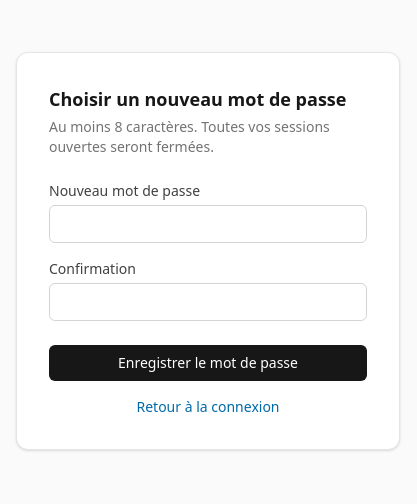
Test case: <ResetPasswordPage /> › valide la saisie sans appel réseau
In the password field labelled "Nouveau mot de passe": (208, 224) x1=49 y1=205 x2=367 y2=243, type "new-password"
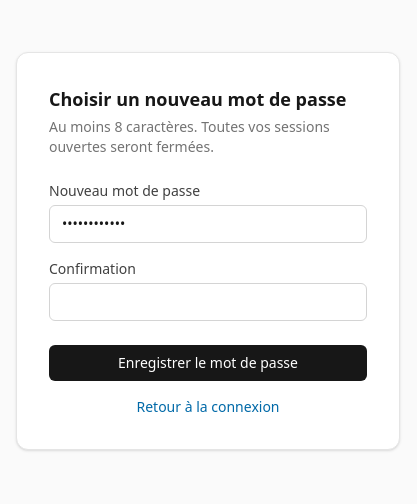
In the password field labelled "Confirmation": (208, 302) x1=49 y1=283 x2=367 y2=321, type "autre-chose"
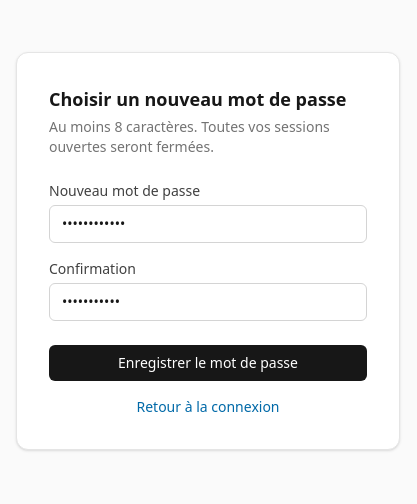
Click the button "Enregistrer le mot de passe": (208, 363) x1=49 y1=345 x2=367 y2=381
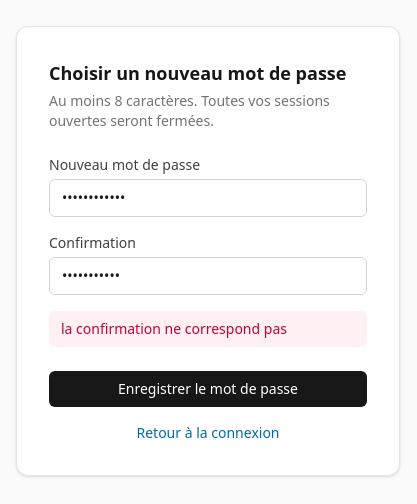
Expected: the message shows "confirmation", x1=61 y1=319 x2=287 y2=338
In the password field labelled "Nouveau mot de passe": (208, 198) x1=49 y1=179 x2=367 y2=217, type "short"
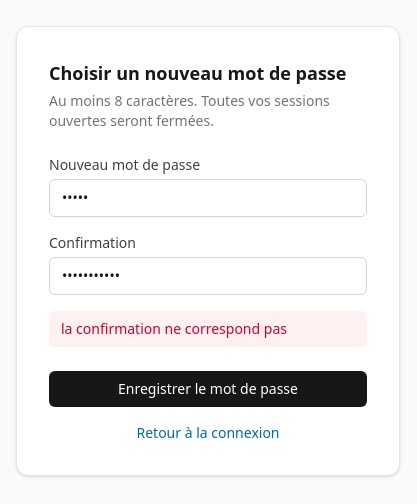
In the password field labelled "Confirmation": (208, 276) x1=49 y1=257 x2=367 y2=295, type "short"
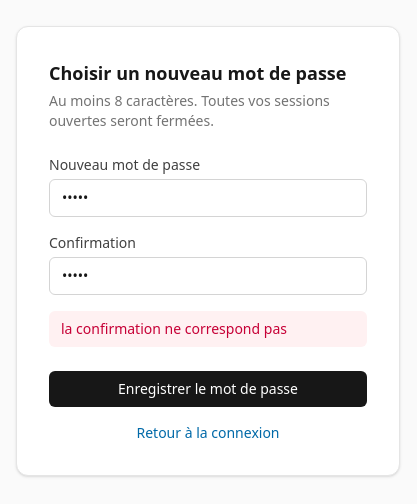
Click the button "Enregistrer le mot de passe": (208, 389) x1=49 y1=371 x2=367 y2=407
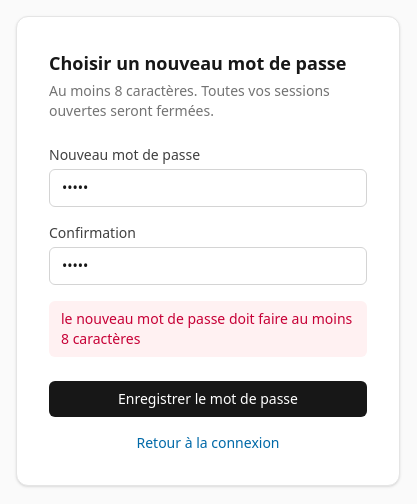
Expected: the message shows "au moins", x1=61 y1=309 x2=352 y2=348
